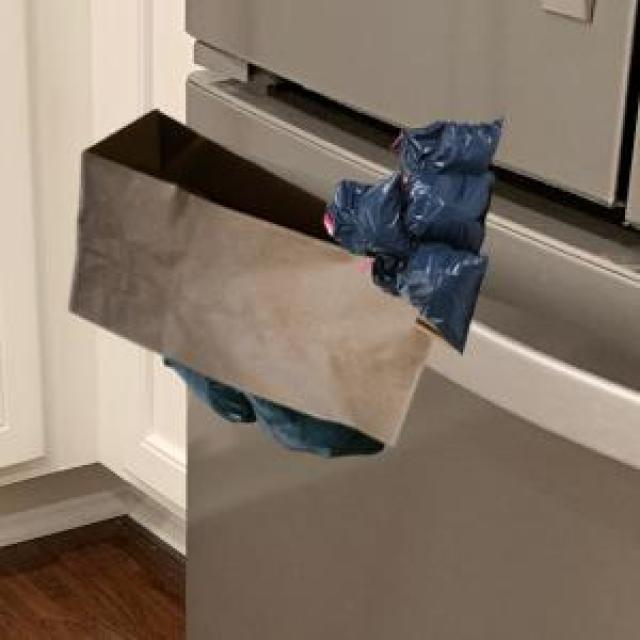miscellaneous trash: (320, 113, 498, 350), (160, 352, 380, 452)
paper: (66, 105, 448, 442)
